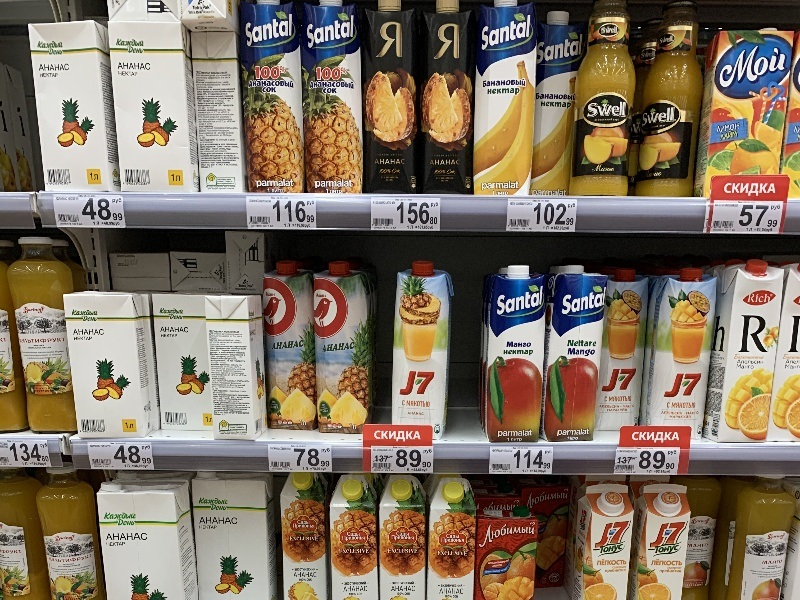juice: (702, 256, 789, 451), (466, 1, 547, 204), (290, 1, 370, 198), (235, 1, 315, 195), (481, 261, 555, 452), (411, 1, 482, 199), (707, 19, 791, 184), (356, 1, 423, 198), (258, 258, 329, 437), (650, 258, 715, 448), (392, 252, 453, 446), (594, 257, 657, 444), (311, 262, 374, 437), (547, 261, 605, 448)
